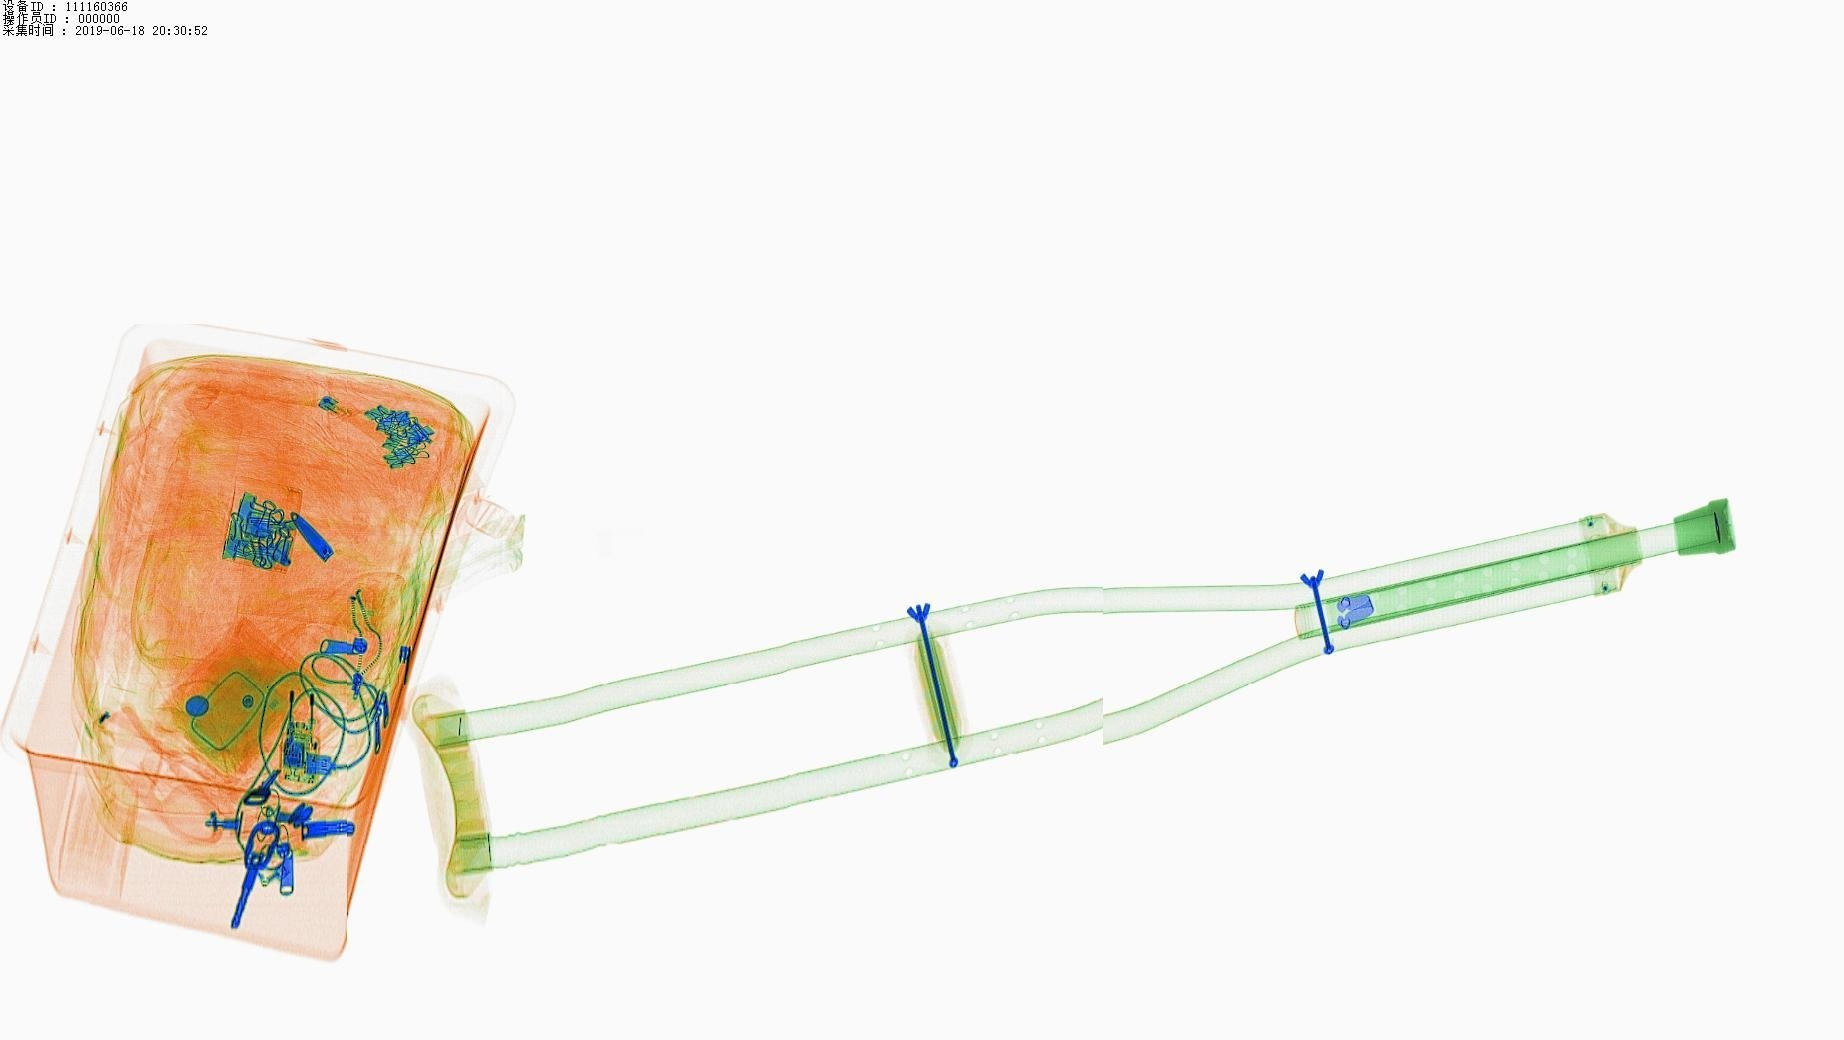NonmetallicFire: (304, 386, 404, 465)
